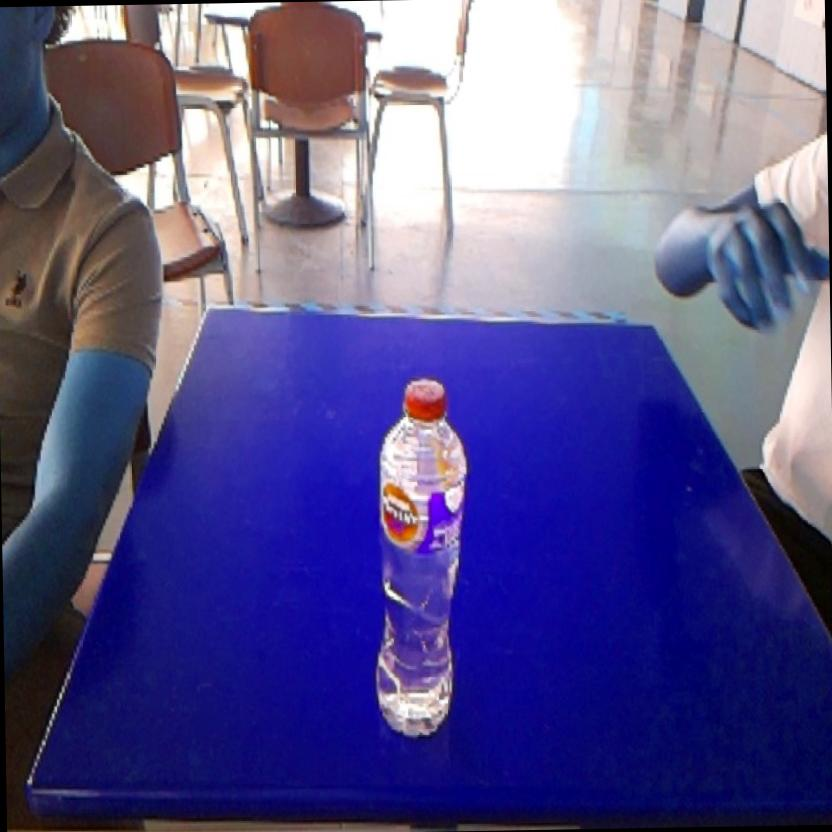good: (358, 366, 477, 754)
